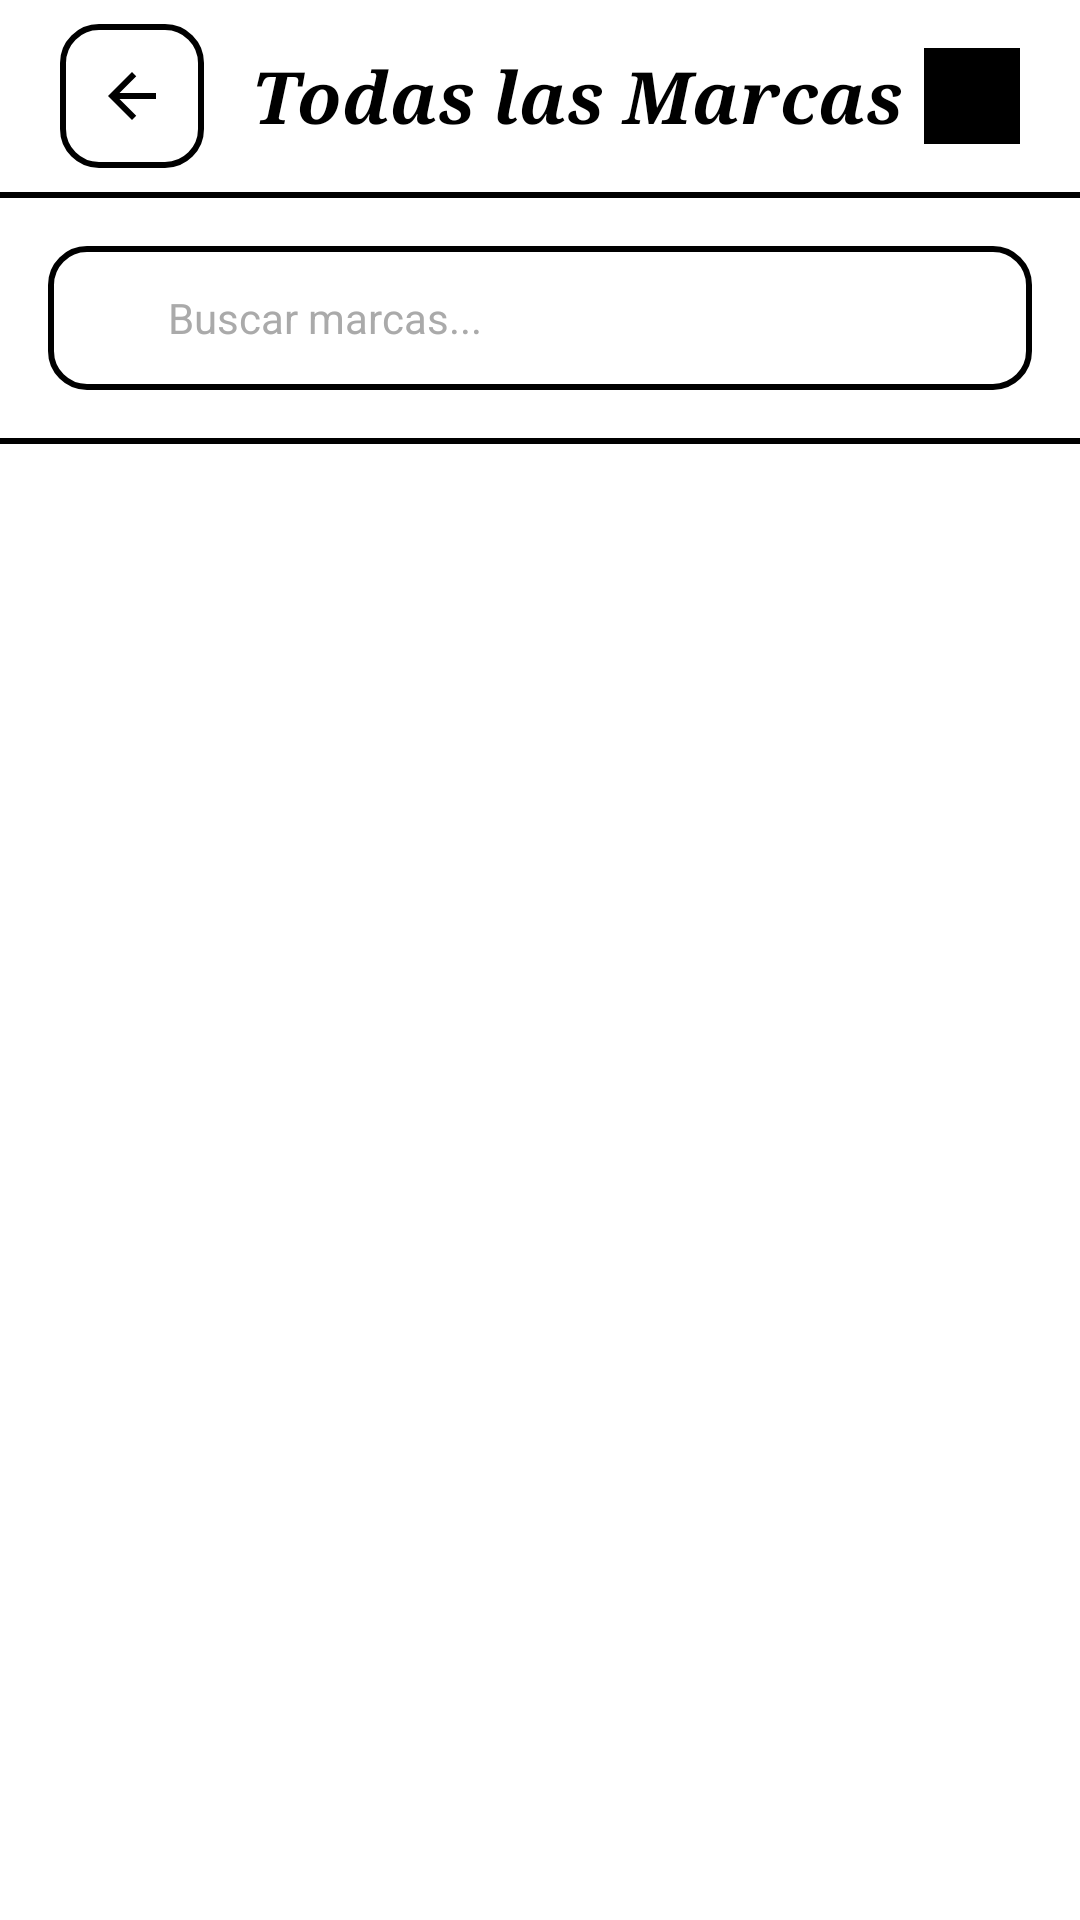

Icon bounding boxes for this 1080×1920 phone screenshot, format (x1, y1, x2, y2):
arrow back: (60, 24, 204, 168)
